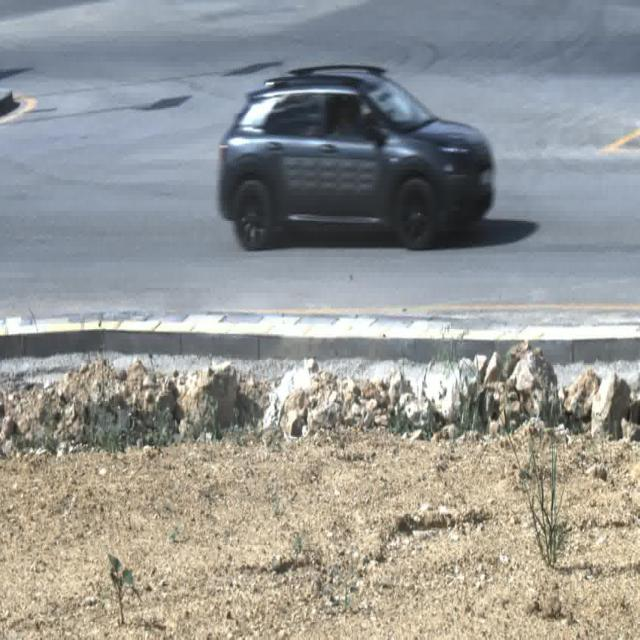Car: (216, 66, 497, 253)
